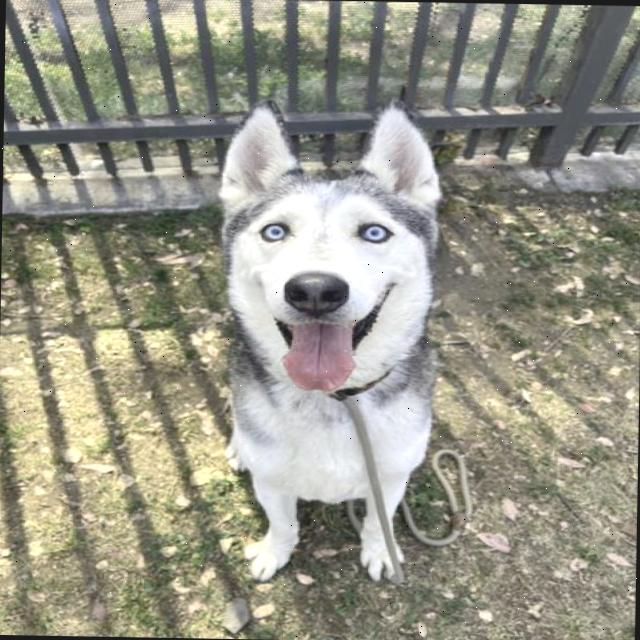siberian_husky_dog: (198, 90, 458, 405)
